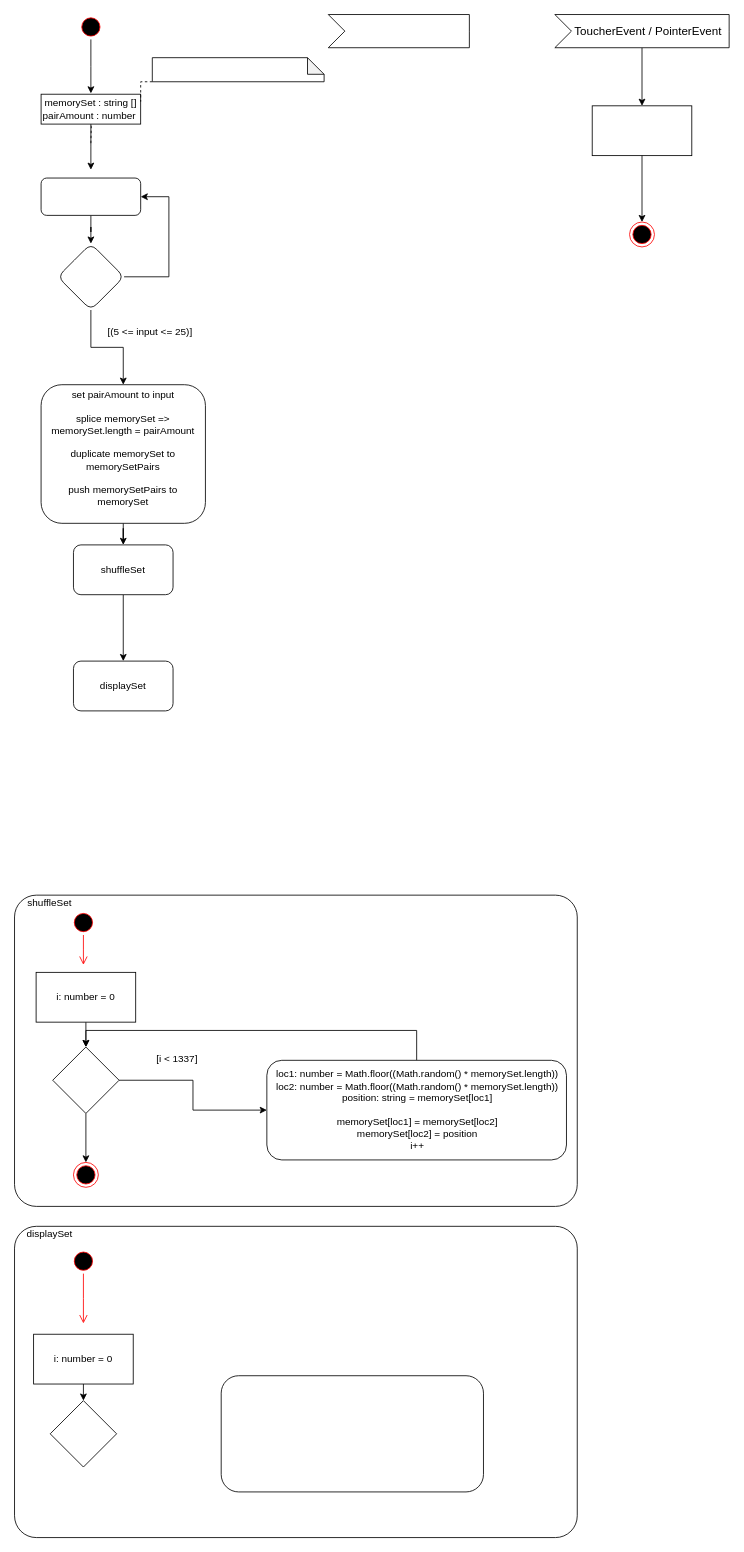
Some shapes in this 744 by 1552 pixel diagram are drawn without their labels. Here are the shapes that lost their labels. From the top down, the centre of each, then its label:
(398,31): load
(237,69): 5 <= memorySet.length <= 25
(641,130): pickCard
(90,196): prompt ("Select Value between 5 - 25")
